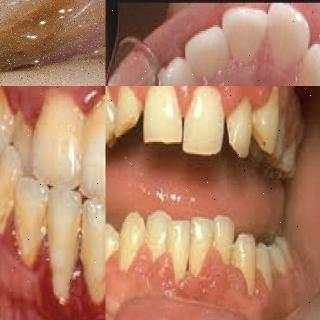Gum Swelling: (106, 256, 262, 296), (105, 86, 274, 108), (29, 267, 99, 320), (0, 86, 106, 119)
calculus: (8, 210, 52, 274), (44, 232, 82, 300), (84, 238, 106, 308), (0, 180, 22, 232), (0, 86, 18, 127)
cavities: (0, 0, 84, 63)
maligned: (5, 175, 46, 275), (254, 3, 320, 61), (248, 86, 285, 152), (4, 102, 42, 166), (0, 156, 21, 252), (158, 220, 188, 280), (209, 215, 238, 266), (113, 86, 141, 137), (288, 53, 320, 86)
